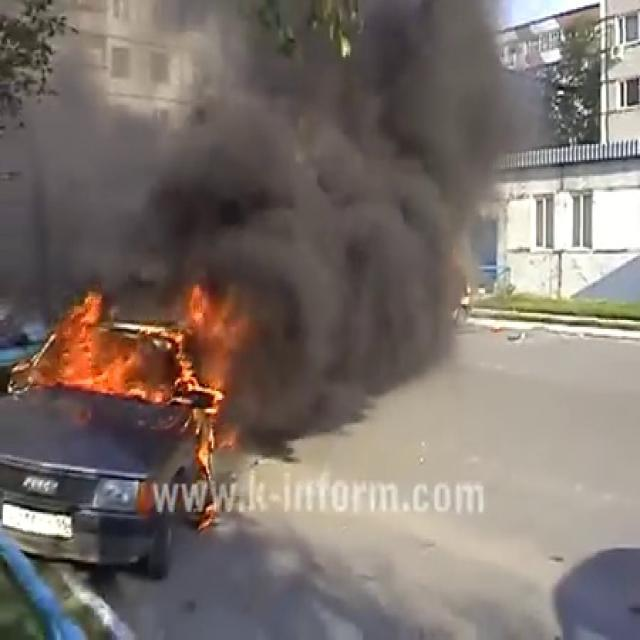Fire: (19, 281, 248, 464)
Smoke: (23, 0, 559, 398)
